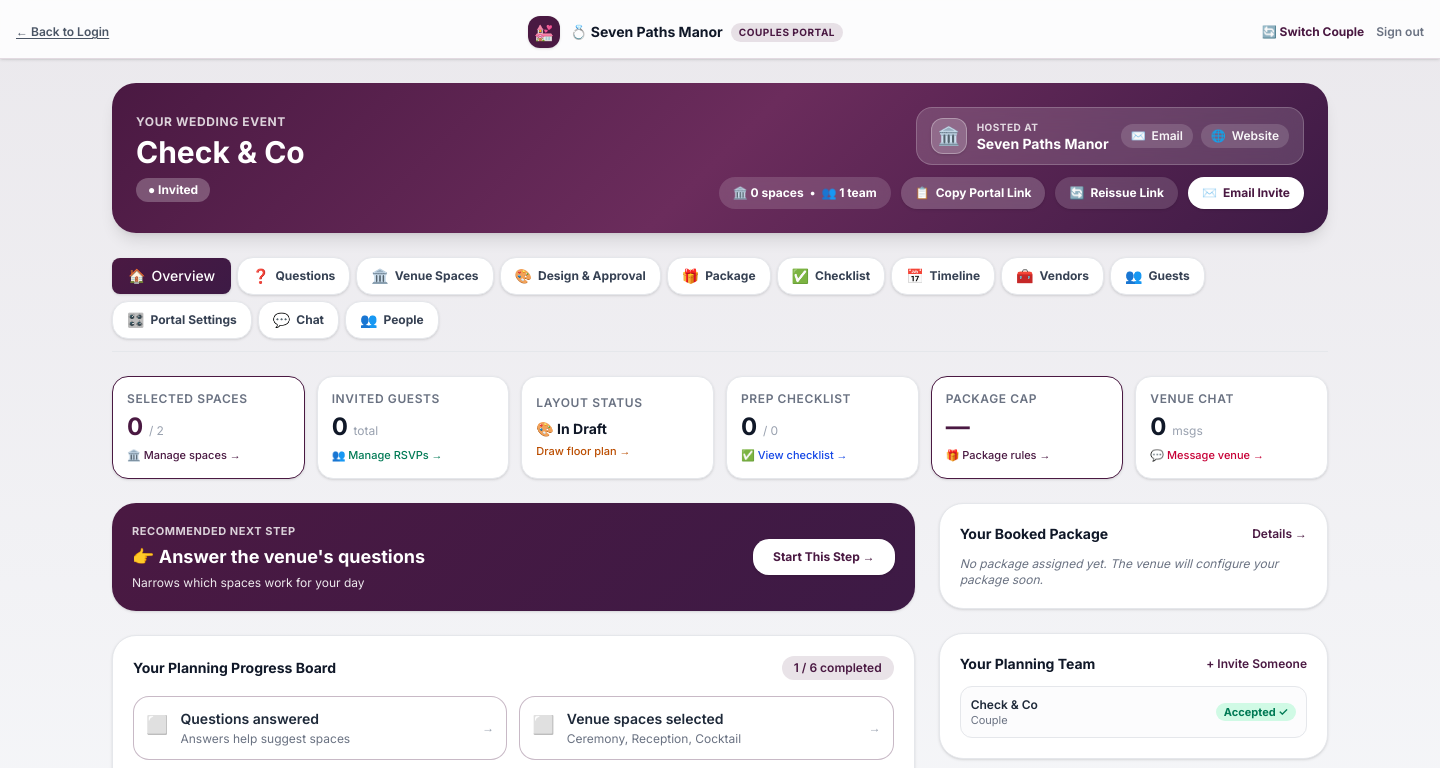
Scenario: CouplesPortal › renders the checklist and vendors tabs
The width and height of the screenshot is (1440, 768).
Expected: the tab "🧰 Vendors" is shown, [1001,257,1104,295]
Click the tab "✅ Checklist": (831, 276) [776,257,885,295]
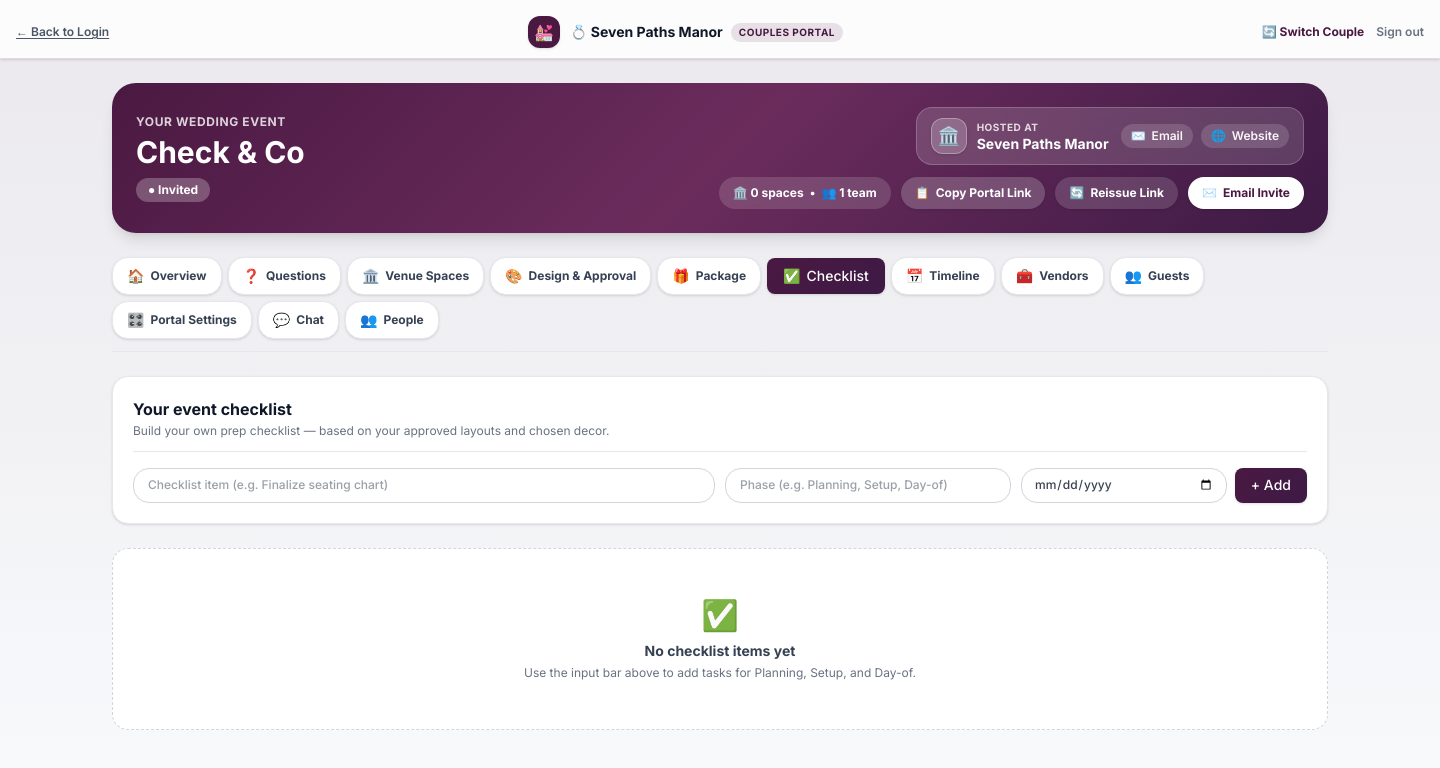
Result: the heading "Your event checklist" is shown at [133,399,292,419]
Click the tab "🧰 Vendors": (1052, 276) [1001,257,1104,295]
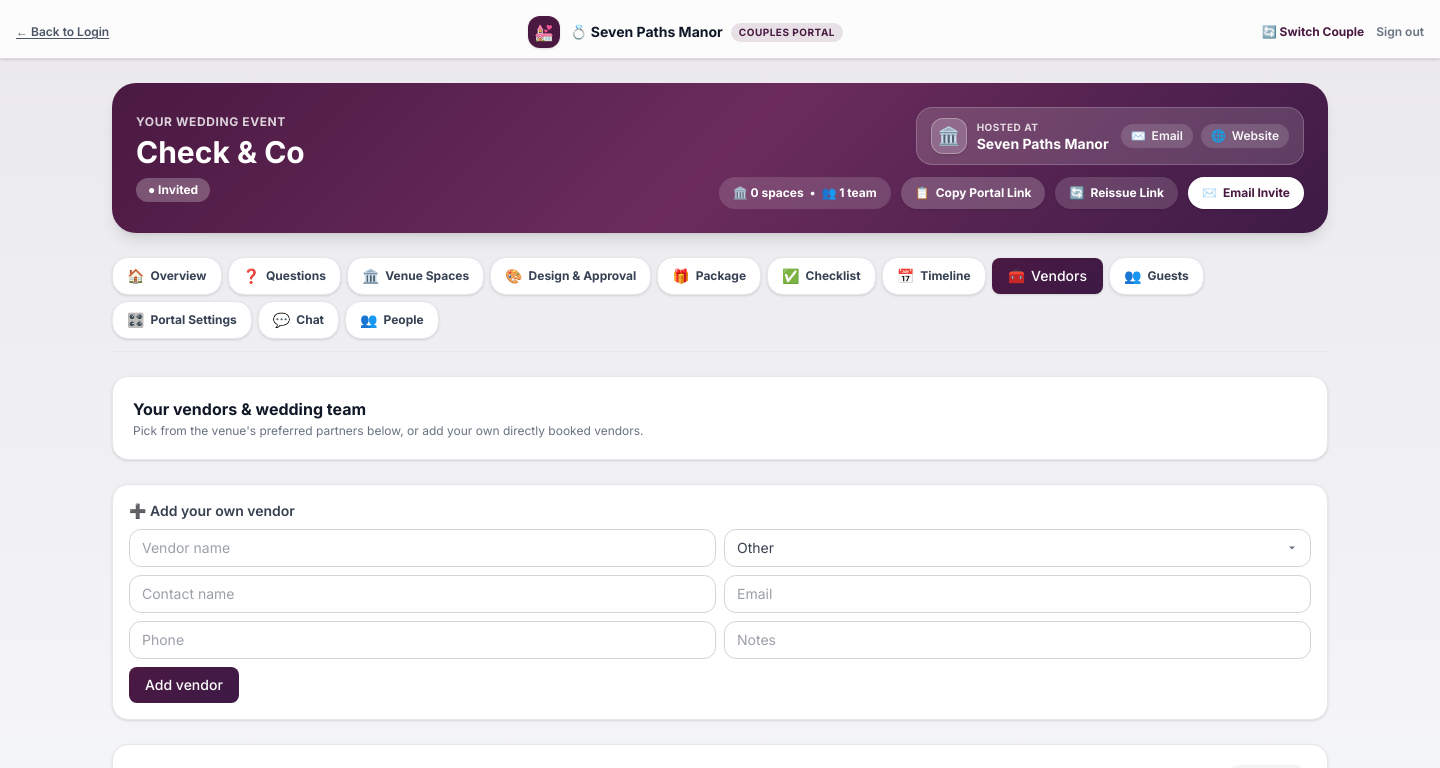
Result: the heading "Your vendors & wedding team" is shown at [133,399,366,419]
